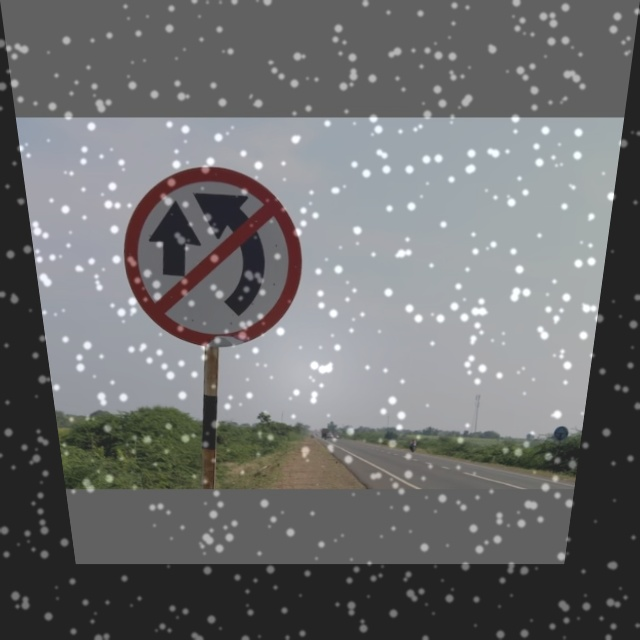Overtaking_Prohibited: (118, 166, 301, 348)
